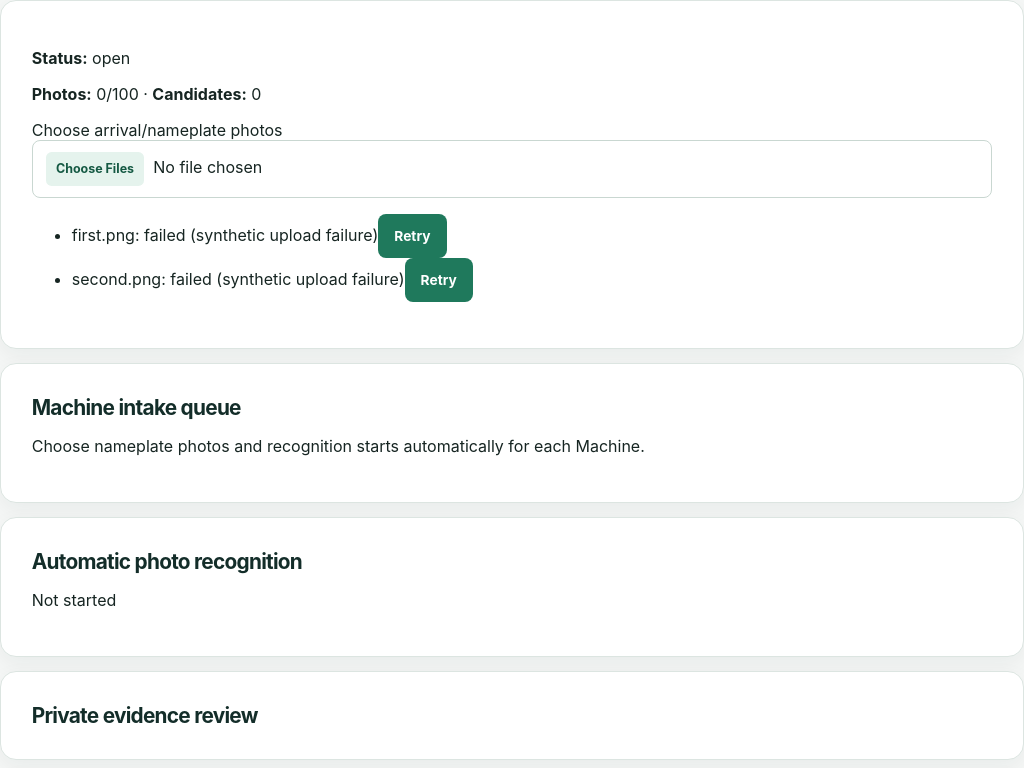
Scenario: Intake review UI › does not start recognition while any visible upload remains failed
Earlier steps of the test are not shown.
Expected: the list item "first.png: failed (synthetic upload failure) Retry" is shown, [72,214,446,258]
Expected: the list item "second.png: failed (synthetic upload failure) Retry" is shown, [72,258,473,302]
Click the button "Retry" in the row of "first.png": point(412, 236) [378,214,446,258]
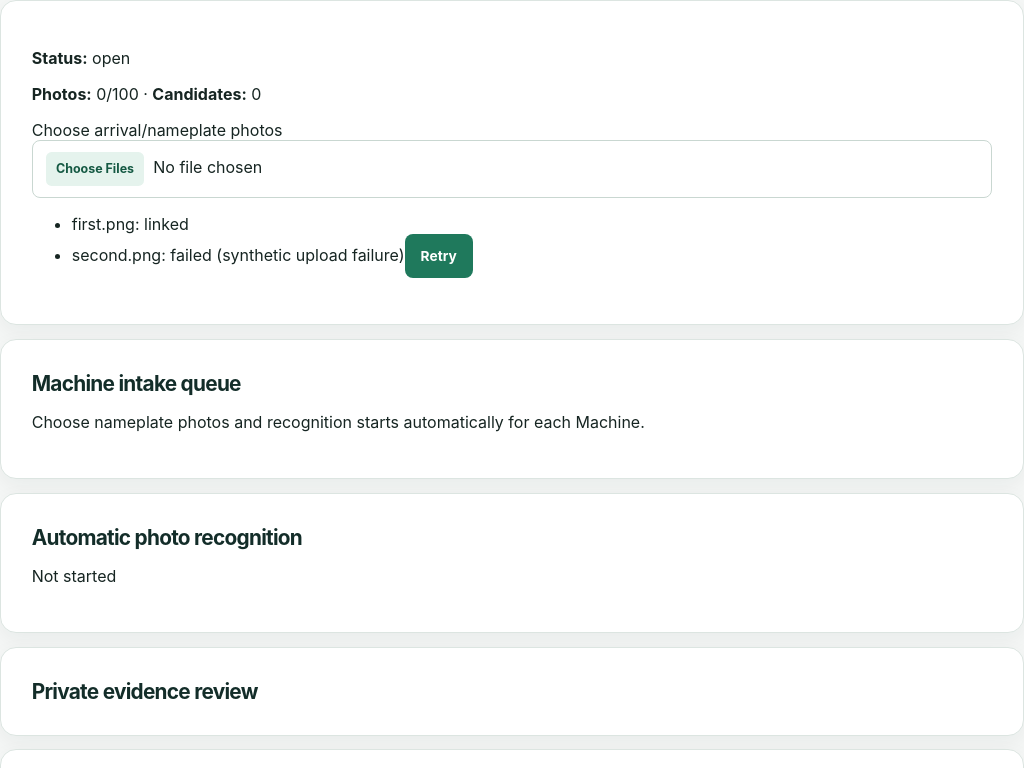
Expected: the list item "second.png: failed (synthetic upload failure) Retry" is shown, [72,234,473,278]
Now the list item "first.png: linked" is shown, box [72,214,189,234]
